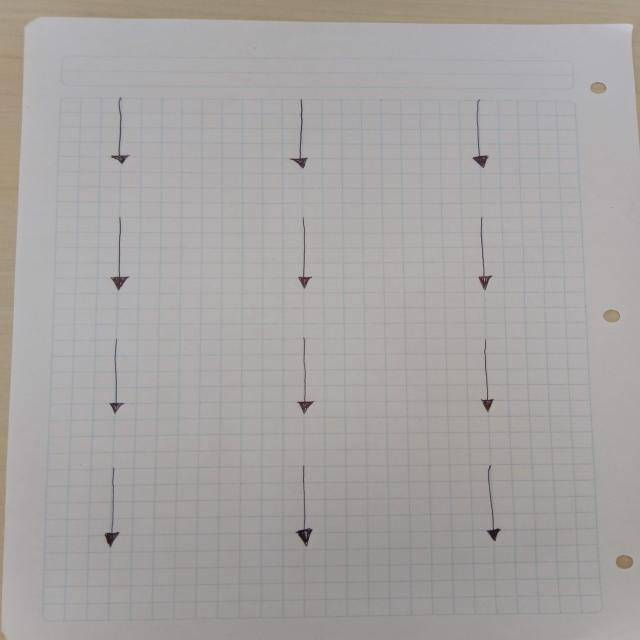arrow_line_down: (287, 462, 327, 554), (98, 341, 134, 422), (458, 100, 498, 171), (470, 339, 504, 418), (286, 219, 324, 288), (479, 461, 506, 548), (286, 98, 318, 171), (468, 217, 498, 293), (108, 97, 139, 166), (104, 217, 132, 290), (294, 339, 320, 414), (102, 472, 126, 552)
